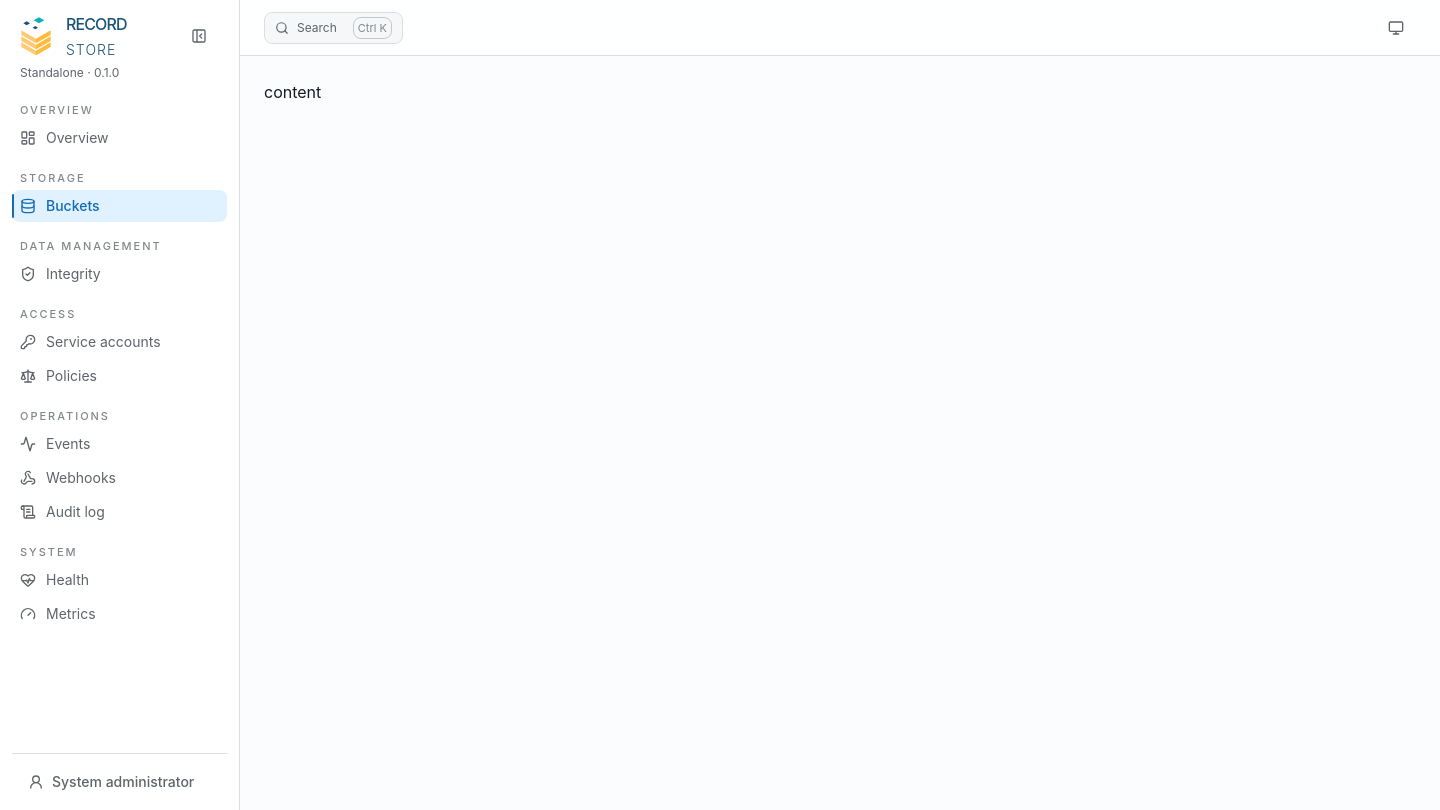
Test: AppShell › collapses and expands the sidebar, remembering the choice
Click the button named "Collapse navigation" at (199, 36), box [179,16,219,56]
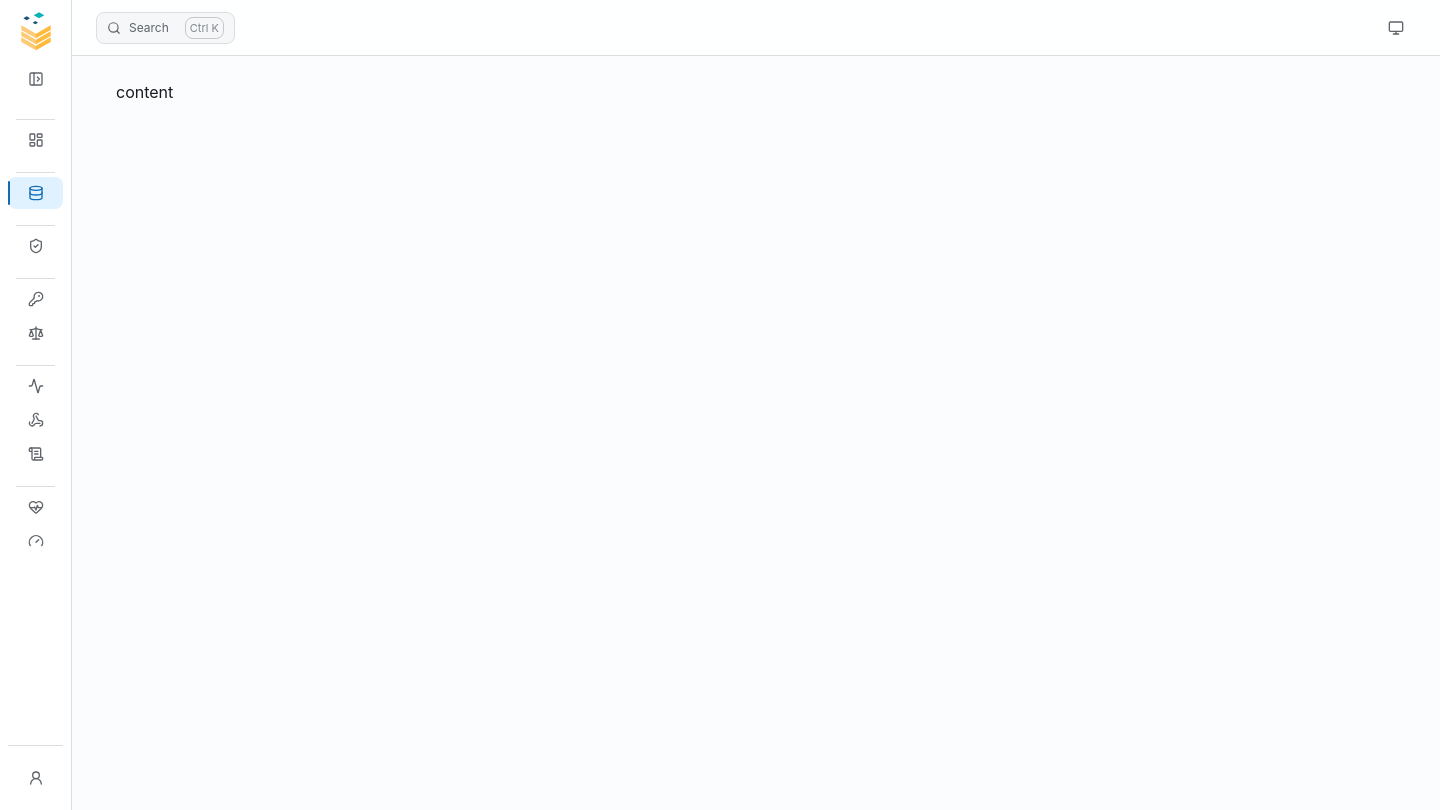
Check: the link named "Buckets" is shown, box [8,177,63,209]
Check: the button named "Expand navigation" is shown, box [16,59,56,99]
